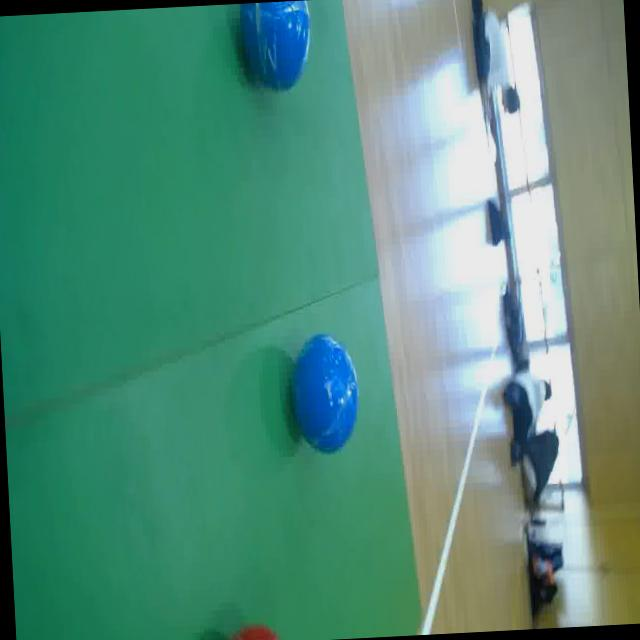blue_ball: (286, 325, 362, 457), (235, 0, 316, 100)
